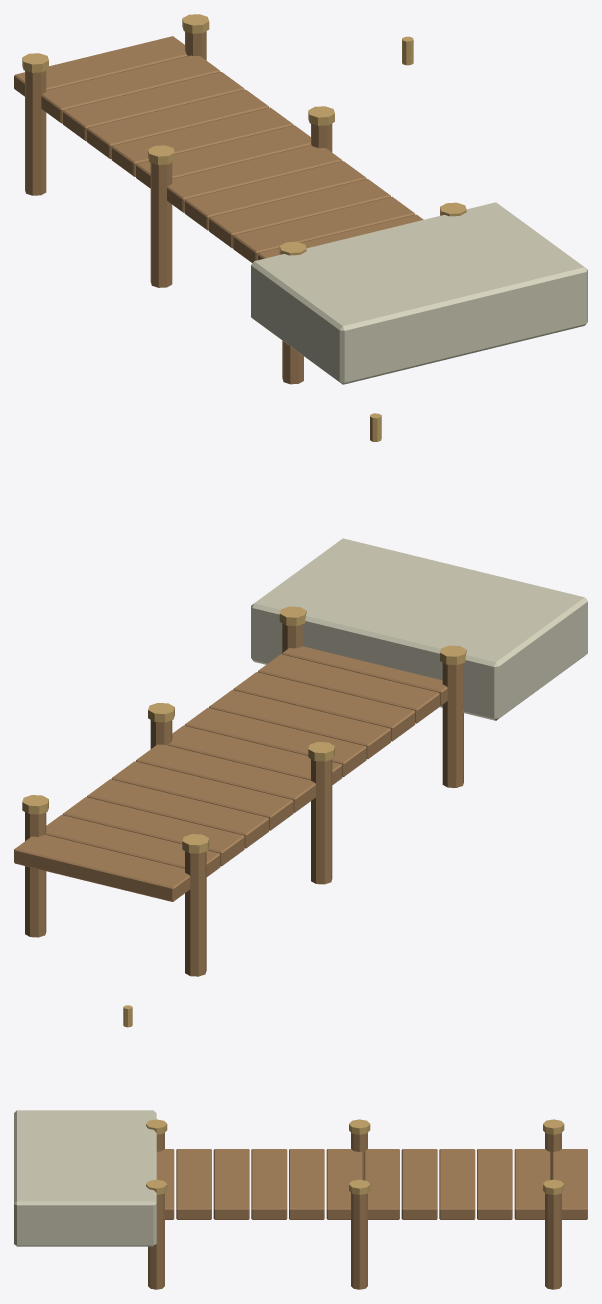
File: level_06.glb
The picture shows the model from 3 angles, top to bottom: view 1: azimuth 30°, elevation 25°; view 2: azimuth 150°, elevation 25°; view 3: azimuth 270°, elevation 25°; orthographic projection. The views are drawn at different scales.
Parts seen in each view (by area): view 1: dock — level 06; view 2: dock — level 06; view 3: dock — level 06.
Part boxes in pixels (x1,y1,x2,y2): dock — level 06: (14, 14, 587, 384); dock — level 06: (14, 413, 587, 976); dock — level 06: (14, 1005, 587, 1289).
Size of the model in its own units: 3.1 by 3.95 by 8.05.
